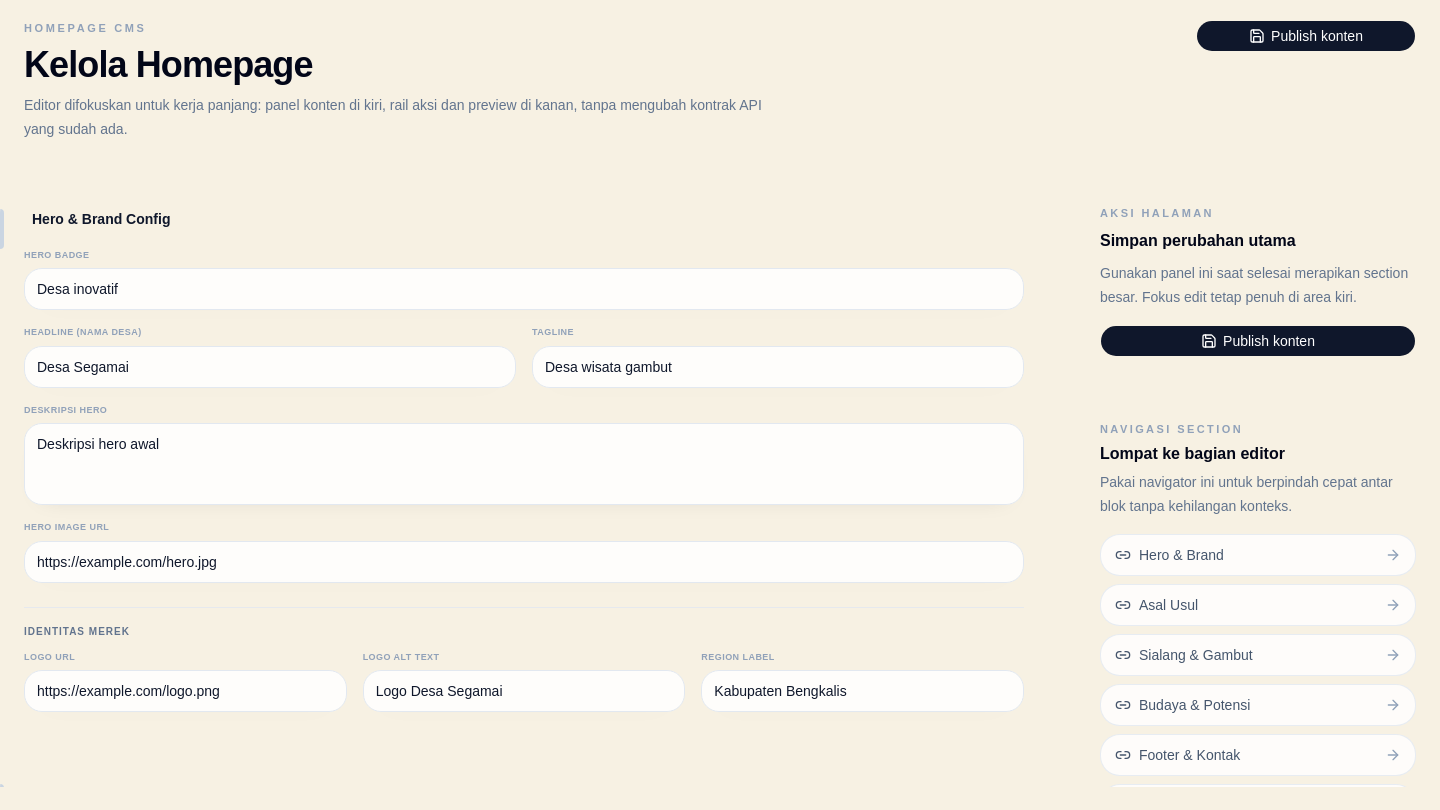
Test: AdminHomepageCMSPage feedback › menandai dirty state lalu simpan sukses dengan toast
Replace the text in the field showing "Desa Segamai" below "Headline (Nama Desa)" with "Desa Segamai Baru" at (270, 366), box left=24, top=346, right=516, bottom=388
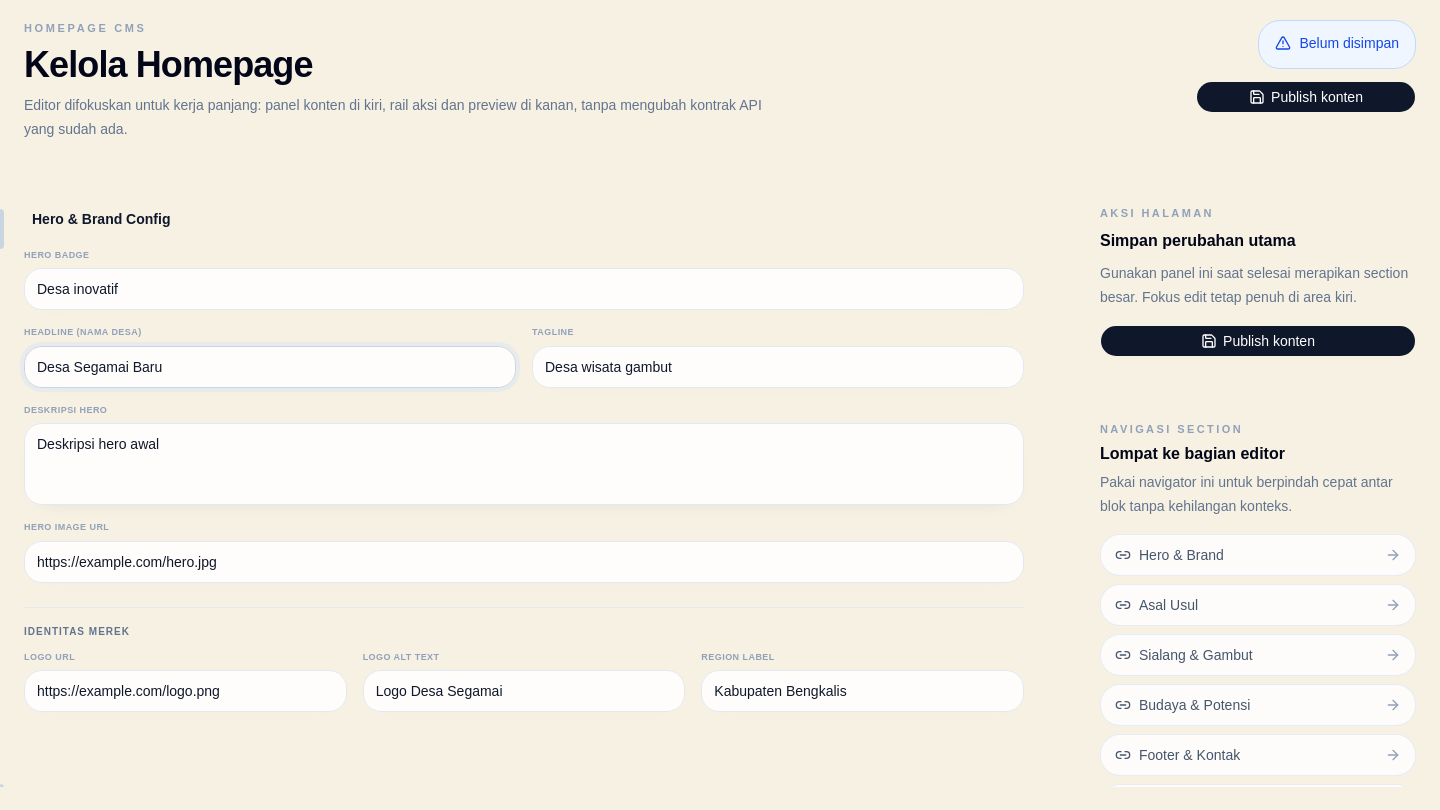
Check: the text "Belum disimpan" is shown, box left=1275, top=33, right=1399, bottom=53
Click the button "Publish konten" below "Belum disimpan" at (1306, 97), box left=1196, top=81, right=1416, bottom=113
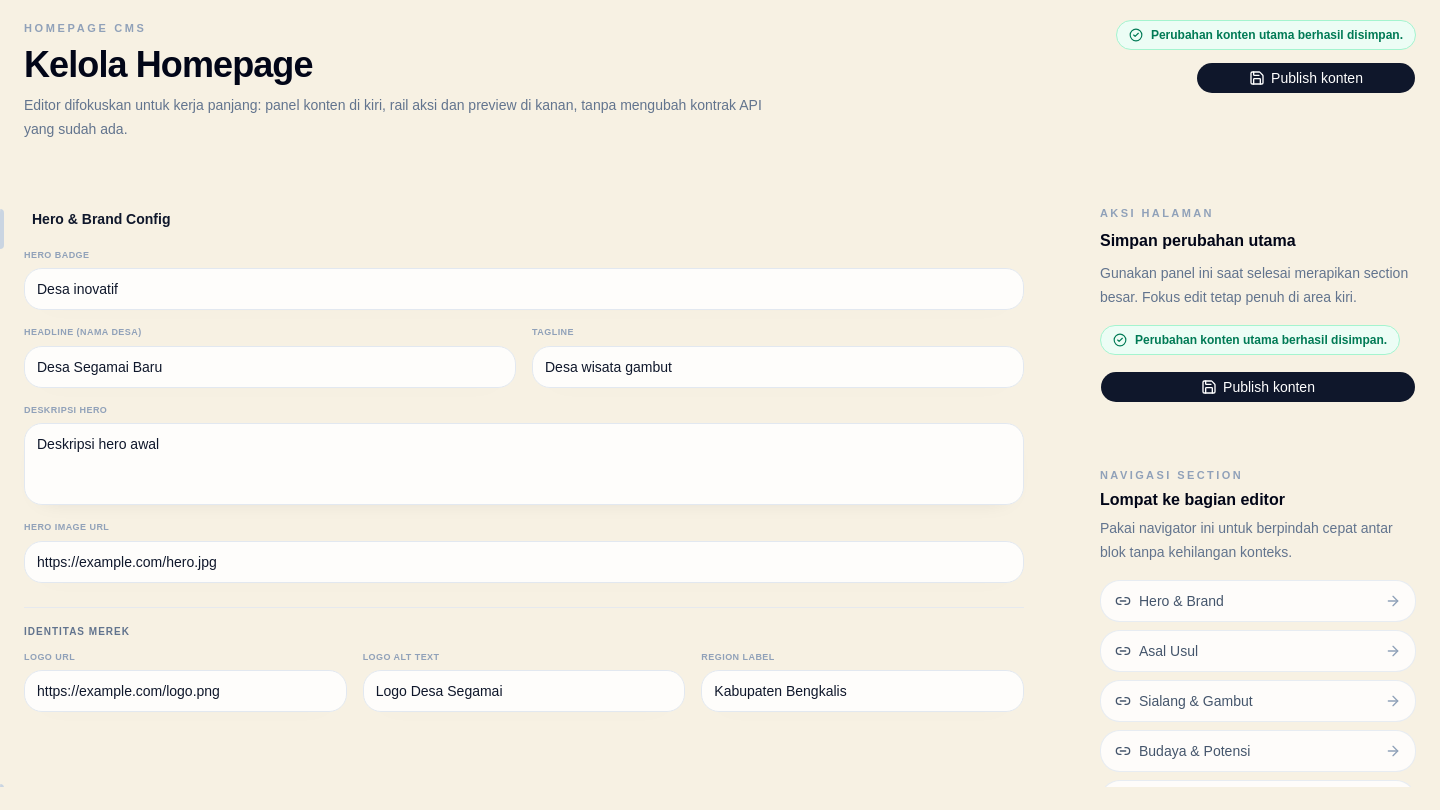
Check: the text "Belum disimpan" is gone
